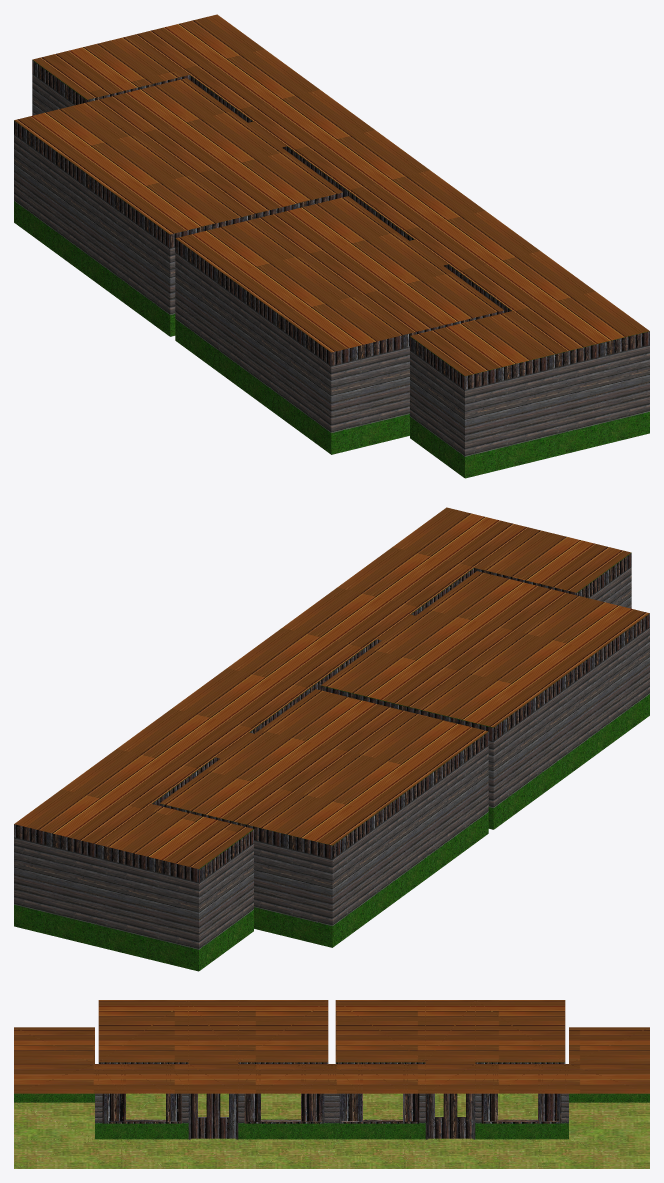
The model's file is Train Car.fbx.
3 views of the same model, one above another, from view 1: azimuth 30°, elevation 25°; view 2: azimuth 150°, elevation 25°; view 3: azimuth 270°, elevation 25° (orthographic). The views are drawn at different scales.
Parts seen in each view (by area): view 1: Plane.003, Plane.001; view 2: Plane.003, Plane.001; view 3: Plane.003, Plane.002, Plane.001, Plane.009, Plane.005, Plane.008, Plane.006, Plane.007, Plane.004.
Boxes of the visible parts, x1=… form: Plane.003: x1=14, y1=14, x2=649, y2=375; Plane.001: x1=14, y1=60, x2=649, y2=478; Plane.003: x1=14, y1=507, x2=649, y2=868; Plane.001: x1=14, y1=553, x2=649, y2=971; Plane.003: x1=14, y1=1000, x2=649, y2=1093; Plane.002: x1=14, y1=1093, x2=649, y2=1168; Plane.001: x1=14, y1=1062, x2=649, y2=1139; Plane.009: x1=102, y1=1093, x2=561, y2=1123; Plane.005: x1=428, y1=1093, x2=450, y2=1138; Plane.008: x1=213, y1=1093, x2=235, y2=1138; Plane.006: x1=450, y1=1093, x2=472, y2=1138; Plane.007: x1=191, y1=1093, x2=213, y2=1138; Plane.004: x1=188, y1=1093, x2=475, y2=1139.
Size of the model in its own units: 718 by 269 by 2063.
